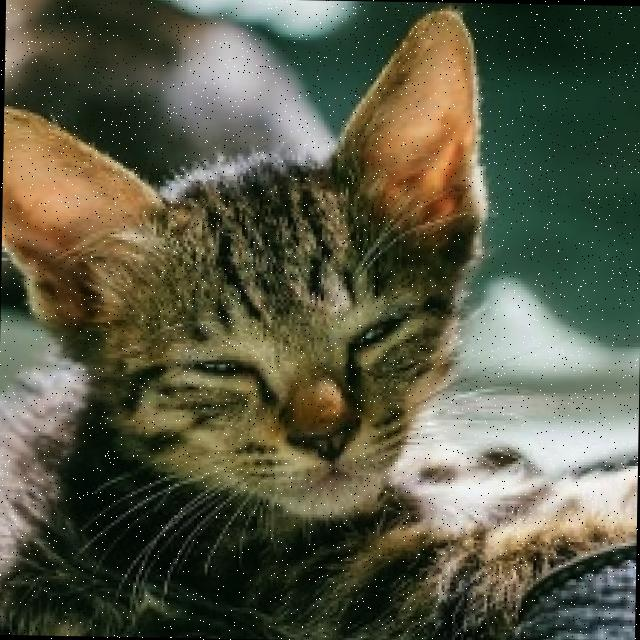Angry: (110, 277, 441, 518)
